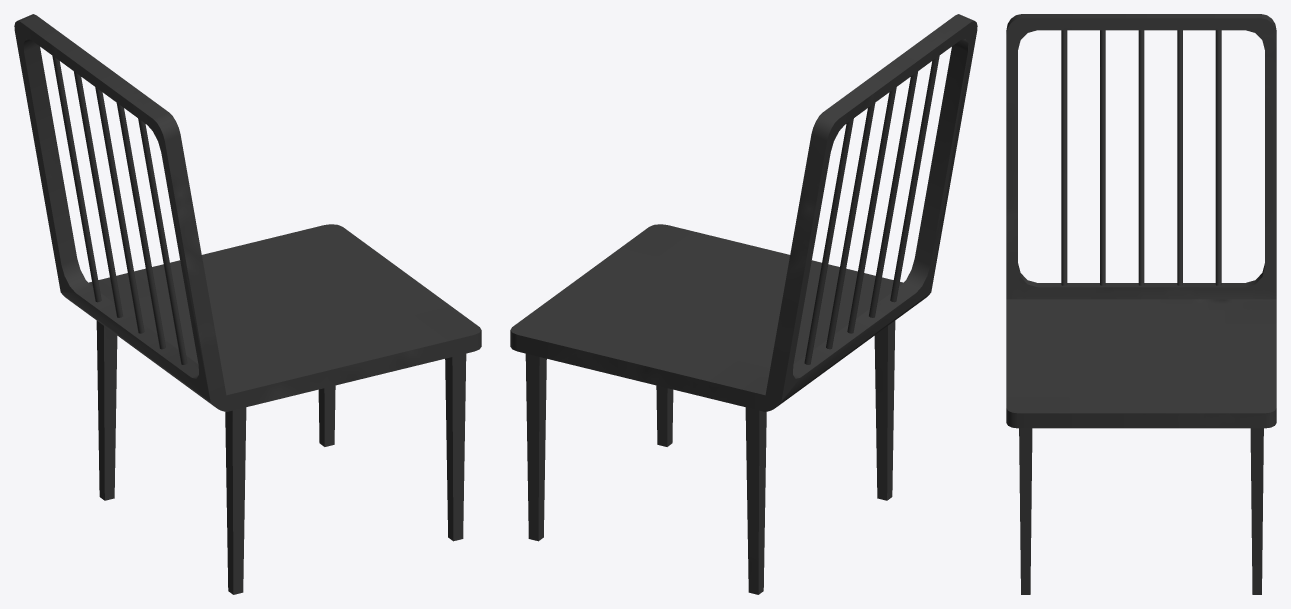
Rendered from bw-int-chair.lod0.glb.
3 views of the same model, side by side, from view 1: azimuth 30°, elevation 25°; view 2: azimuth 150°, elevation 25°; view 3: azimuth 270°, elevation 25° (orthographic). The views are drawn at different scales.
Visible parts, largest first — view 1: chair_1_texture_2_0; view 2: chair_1_texture_2_0; view 3: chair_1_texture_2_0.
Boxes of the visible parts, x1,y1,x2,y2 form: chair_1_texture_2_0: [14, 14, 481, 594]; chair_1_texture_2_0: [510, 14, 977, 594]; chair_1_texture_2_0: [1006, 14, 1276, 594].
Bounding box in the file's own units: 0.6478 × 0.95 × 0.5191.
1 material, 1 textured.
